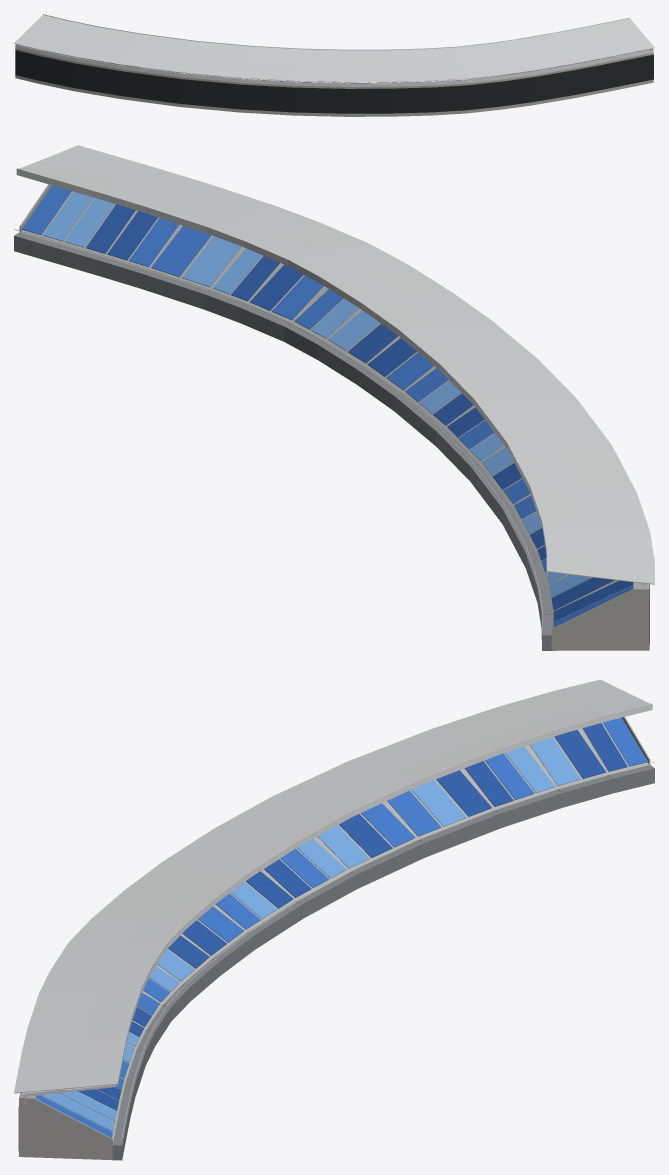
Rendered from spo_stand_d_c.glb.
3 views of the same model, one above another, from view 1: azimuth 30°, elevation 25°; view 2: azimuth 150°, elevation 25°; view 3: azimuth 270°, elevation 25° (orthographic). The views are drawn at different scales.
Visible parts, largest first — view 1: sao-paulo-sector-d; view 2: sao-paulo-sector-d; view 3: sao-paulo-sector-d.
Part boxes in pixels (x1,y1,x2,y2): sao-paulo-sector-d: (14, 14, 654, 116); sao-paulo-sector-d: (14, 145, 654, 650); sao-paulo-sector-d: (14, 679, 654, 1160).
Size of the model in its own units: 156 by 13.6 by 102.
